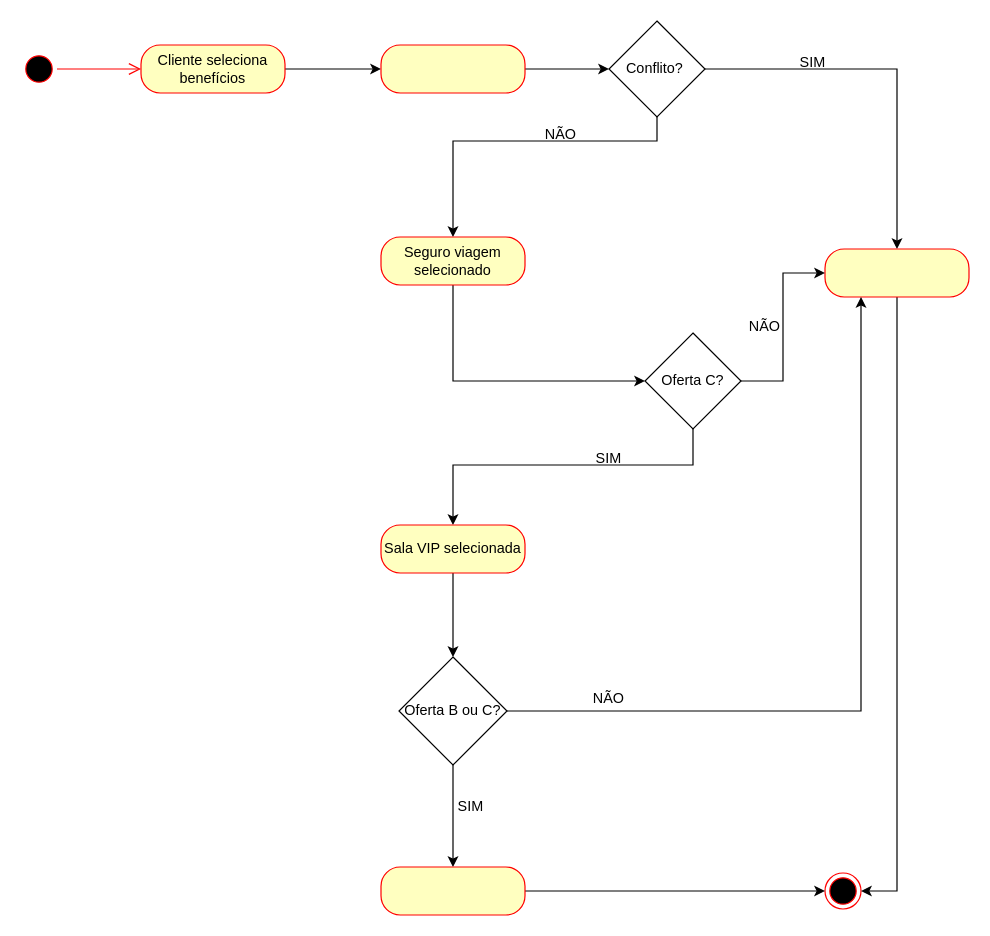
The diagram is 990 pixels wide and 936 high, and some of its shapes have lost their labels. Here are the shapes that lost their labels. From the top down, the centre of each, then its label:
[452,68]: Verificar conflito Cashback vs Pontos
[896,272]: Erro seleção
[452,890]: Benefícios aprovados
